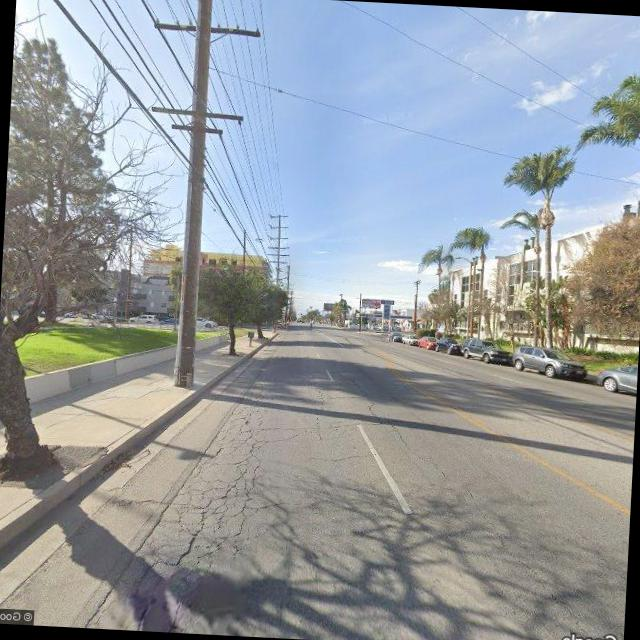crack: (139, 375, 415, 640)
pothole: (451, 476, 585, 618)
